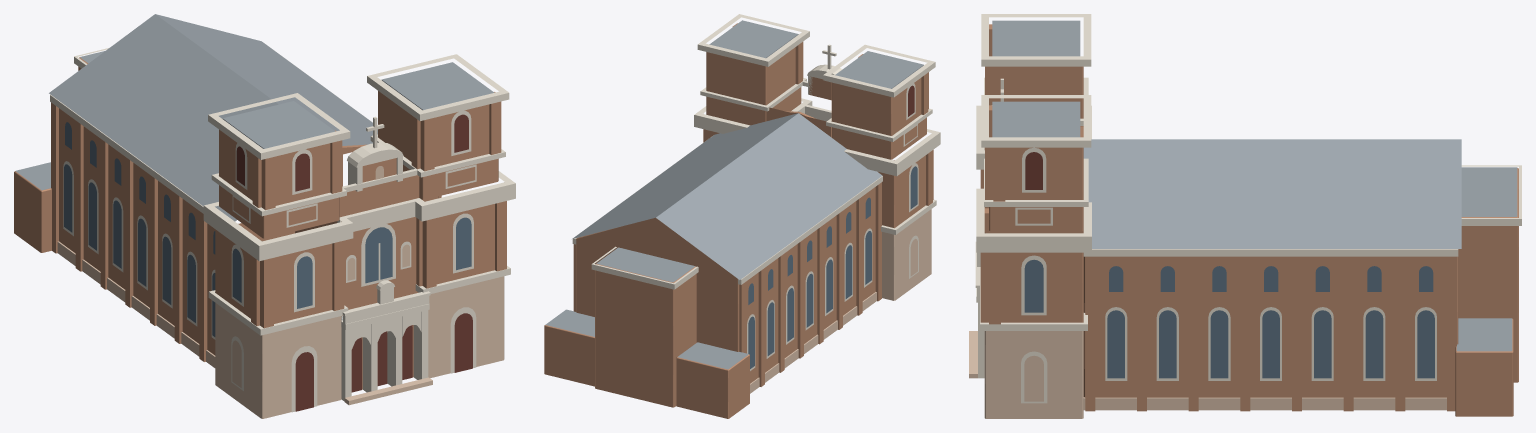
The model's file is nola-st-alphonsus.glb.
3 views of the same model, side by side, from view 1: azimuth 30°, elevation 25°; view 2: azimuth 150°, elevation 25°; view 3: azimuth 270°, elevation 25° (orthographic). The views are drawn at different scales.
Visible parts, largest first — view 1: St. Alphonsus Church; view 2: St. Alphonsus Church; view 3: St. Alphonsus Church.
Part boxes in pixels (x1,y1,x2,y2): St. Alphonsus Church: (14,14,515,418); St. Alphonsus Church: (544,14,940,418); St. Alphonsus Church: (969,14,1521,418).
Size of the model in its own units: 28.1 by 28 by 50.15.
